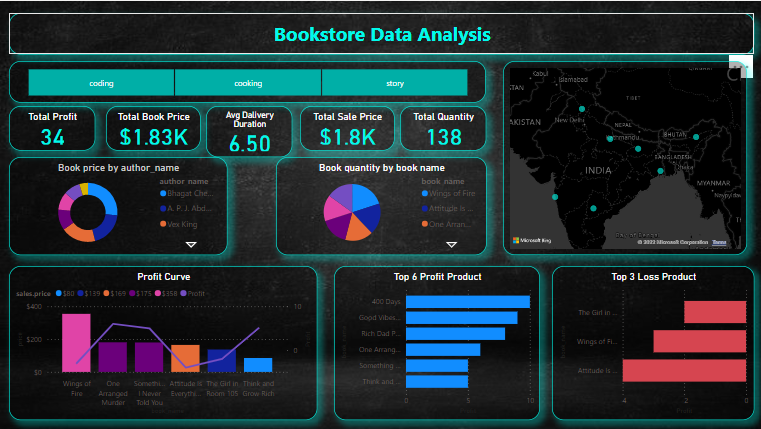

What the dashboard file says about the page in this screenshot:
{"tool":"powerbi","page":{"name":"Page 2","canvas":[1280,720],"ordinal":1},"visuals":[{"type":"card","title":"Total Sale Price","fields":{"Values":["sales.price"]},"box":[420.2,101.2,194.5,74.9],"z":1},{"type":"card","title":"Total Book Price","fields":{"Values":["MergeTable_BookAndSales.price"]},"box":[215.9,101.2,177,74.9],"z":2},{"type":"card","title":"Profit","fields":{"Values":["MergeTable_BookAndSales.Profit"]},"box":[19.5,101.2,180.9,74.9],"z":3},{"type":"slicer","fields":{"Values":["MergeTable_BookAndSales.category"]},"box":[19.5,17.5,783,70],"z":4},{"type":"pieChart","title":"Book quantity by book name","fields":{"Category":["MergeTable_BookAndSales.book_name"],"Y":["MergeTable_BookAndSales.quantity"]},"box":[461,191.6,360.9,194.5],"z":5},{"type":"donutChart","title":"Book price by author_name","fields":{"Category":["MergeTable_BookAndSales.author_name"],"Y":["MergeTable_BookAndSales.price"]},"box":[19.5,191.6,380.3,194.5],"z":6},{"type":"lineStackedColumnComboChart","title":"Profit  Curve","fields":{"Category":["MergeTable_BookAndSales.book_name"],"Series":["MergeTable_BookAndSales.sales.price"],"Y":["MergeTable_BookAndSales.price"],"Y2":["MergeTable_BookAndSales.Profit"]},"box":[19.5,398.8,532,305.4],"z":7},{"type":"map","title":"Profit","fields":{"Category":["Address.city"],"Size":["MergeTable_BookAndSales.sales.price"]},"box":[845.2,17.5,422.1,381.3],"z":8},{"type":"clusteredBarChart","title":"Profit  Curve","fields":{"Y":["MergeTable_BookAndSales.Profit"],"Category":["MergeTable_BookAndSales.book_name"]},"box":[560.2,445.5,346.3,258.7],"z":9},{"type":"clusteredBarChart","title":"Profit  Curve","fields":{"Y":["MergeTable_BookAndSales.Profit"],"Category":["MergeTable_BookAndSales.book_name"]},"box":[926.9,445.5,340.4,258.7],"z":10},{"type":"card","title":"Total Quantity","fields":{"Values":["MergeTable_BookAndSales.quantity"]},"box":[631.2,101.2,179.9,74.9],"z":11}]}

Visuals, with their boxes in screenshot pixels (x1, y1, x2, y2), scaled from the page's 1280x720 canvas onto the 761x429 screenshot:
"Total Sale Price" card: l=250, t=60, r=365, b=105
"Total Book Price" card: l=128, t=60, r=234, b=105
"Profit" card: l=12, t=60, r=119, b=105
slicer - MergeTable_BookAndSales.category: l=12, t=10, r=477, b=52
"Book quantity by book name" pieChart: l=274, t=114, r=489, b=230
"Book price by author_name" donutChart: l=12, t=114, r=238, b=230
"Profit  Curve" lineStackedColumnComboChart: l=12, t=238, r=328, b=420
"Profit" map: l=502, t=10, r=753, b=238
"Profit  Curve" clusteredBarChart: l=333, t=265, r=539, b=420
"Profit  Curve" clusteredBarChart: l=551, t=265, r=753, b=420
"Total Quantity" card: l=375, t=60, r=482, b=105
